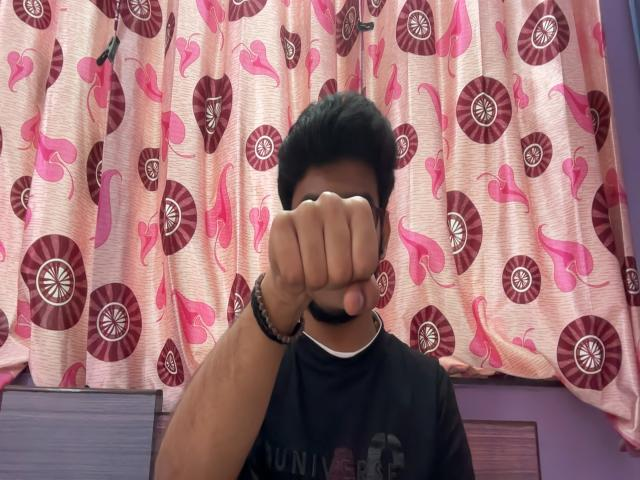Yes: (262, 185, 387, 323)
